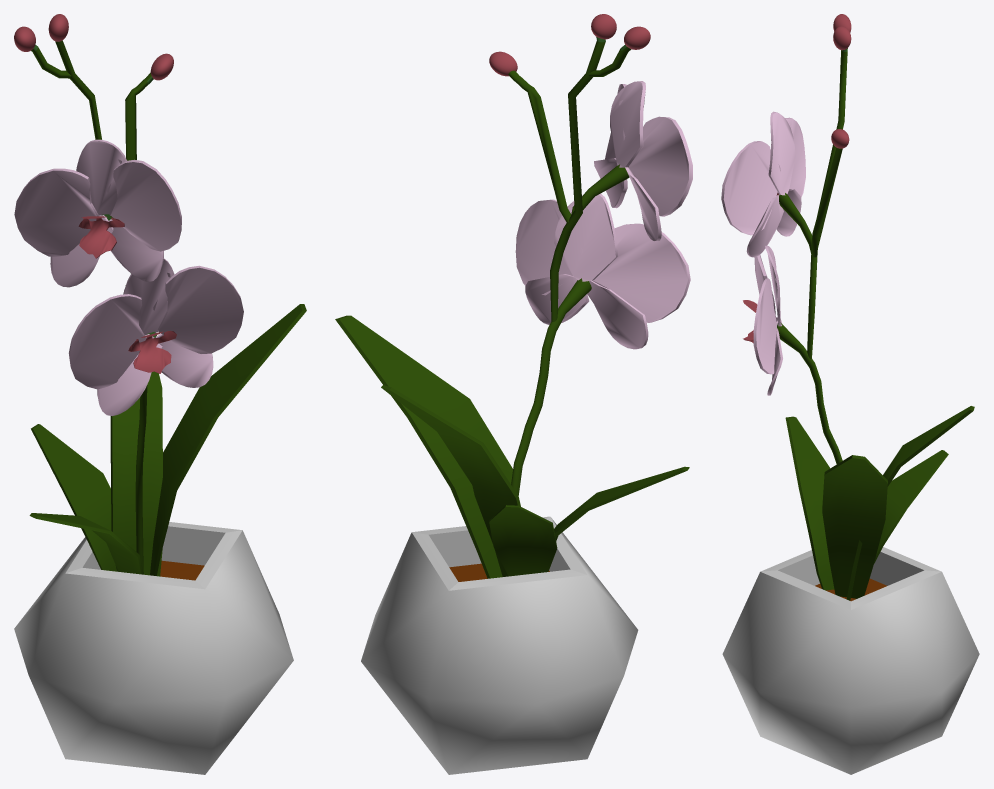
Rendered from Orchid_422.gltf.
3 views of the same model, side by side, from view 1: azimuth 30°, elevation 25°; view 2: azimuth 150°, elevation 25°; view 3: azimuth 270°, elevation 25° (orthographic). The views are drawn at different scales.
Visible parts, largest first — view 1: node-0; view 2: node-0; view 3: node-0.
Boxes of the visible parts, x1=… form: node-0: x1=14, y1=14, x2=306, y2=774; node-0: x1=335, y1=14, x2=692, y2=774; node-0: x1=721, y1=14, x2=979, y2=774.
Bounding box in the file's own units: 53.66 × 119 × 41.56.
